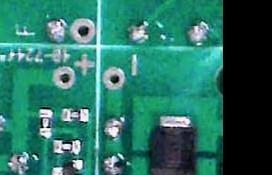chip-resistor: (54, 137, 81, 152), (39, 107, 52, 136), (63, 106, 89, 120)
diode: (150, 115, 197, 175)
transistor: (53, 157, 84, 175)
